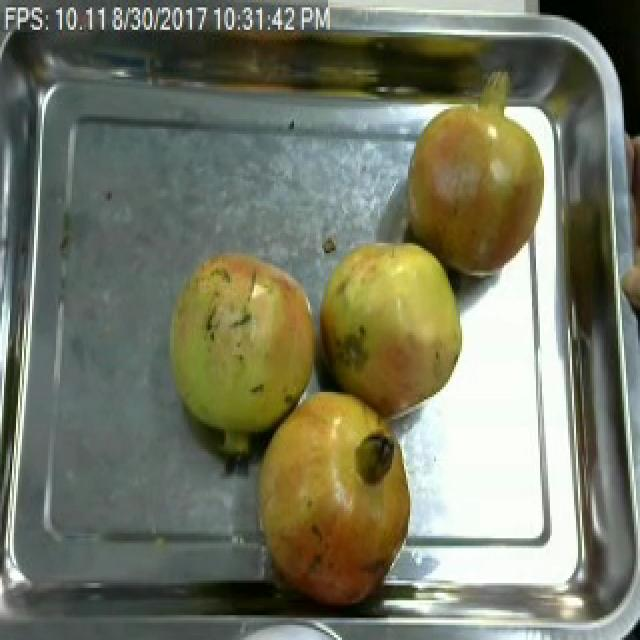fruit: (246, 382, 418, 613), (158, 238, 324, 471), (392, 87, 558, 290), (308, 223, 468, 427)
